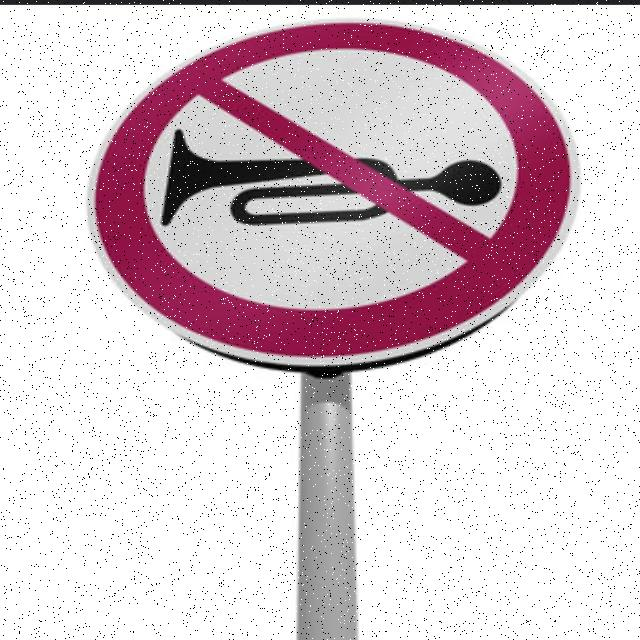No_Horn: (92, 21, 578, 369)
